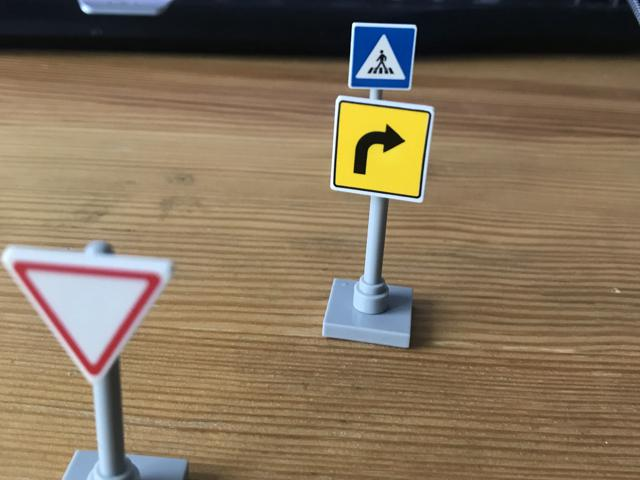fahrtrichtung rechts: (328, 97, 433, 202)
fußgängerüberweg: (347, 20, 416, 91)
vorfahrt gewähren: (1, 242, 183, 388)
